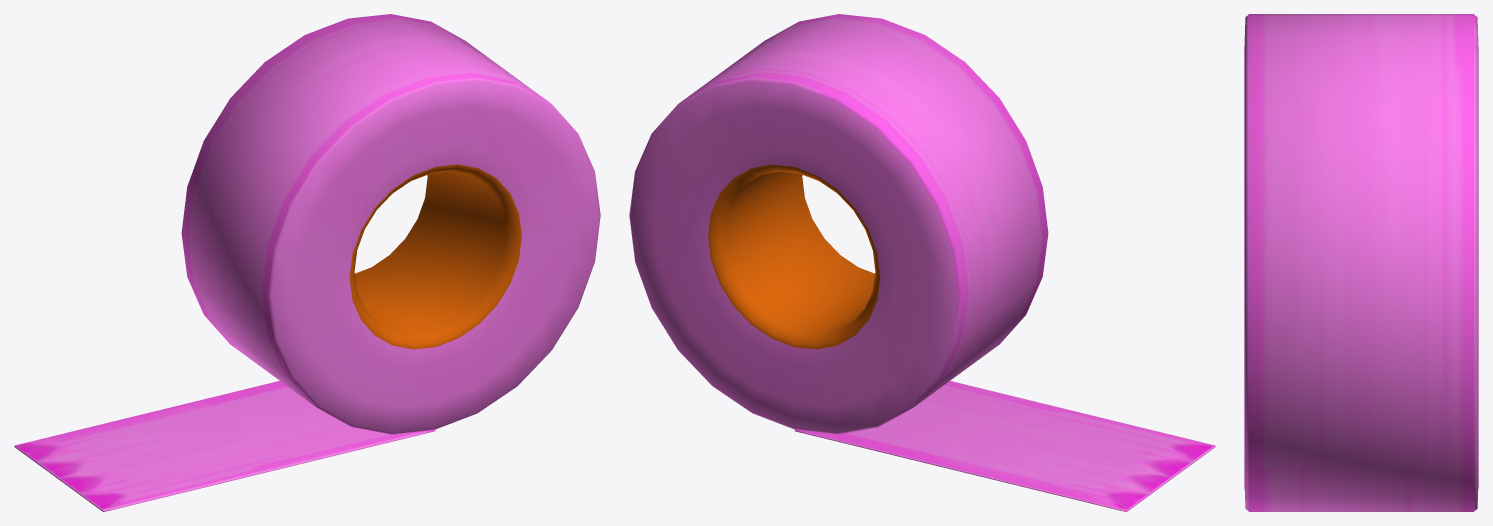
Rendered from SM_Tape_Roll2.fbx.
The picture shows the model from 3 angles, left to right: view 1: azimuth 30°, elevation 25°; view 2: azimuth 150°, elevation 25°; view 3: azimuth 270°, elevation 25°; orthographic projection. The views are drawn at different scales.
Visible parts, largest first — view 1: SM_Tape_Roll, SM_Tape_Strip; view 2: SM_Tape_Roll, SM_Tape_Strip; view 3: SM_Tape_Roll.
Boxes of the visible parts, x1=… form: SM_Tape_Roll: x1=181, y1=14, x2=600, y2=434; SM_Tape_Strip: x1=14, y1=381, x2=435, y2=511; SM_Tape_Roll: x1=629, y1=14, x2=1048, y2=434; SM_Tape_Strip: x1=794, y1=381, x2=1215, y2=511; SM_Tape_Roll: x1=1244, y1=14, x2=1478, y2=511.
Size of the model in its own units: 300 by 200 by 93.86.
